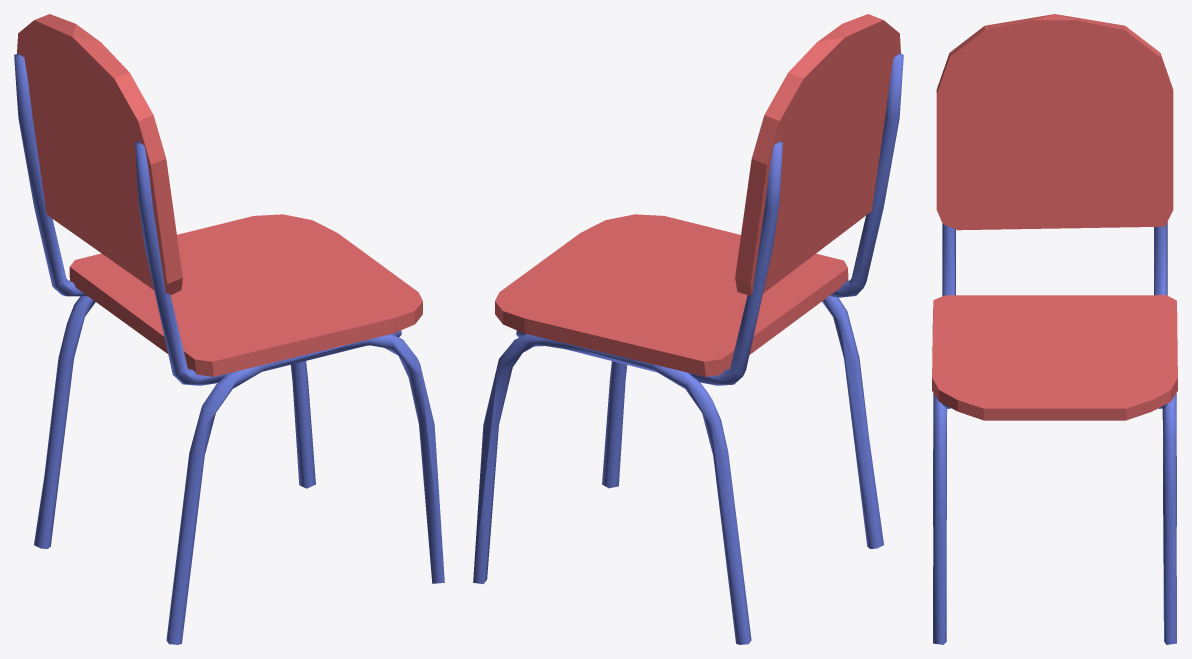
Rendered from стул .fbx.
The picture shows the model from 3 angles, left to right: view 1: azimuth 30°, elevation 25°; view 2: azimuth 150°, elevation 25°; view 3: azimuth 270°, elevation 25°; orthographic projection. The views are drawn at different scales.
Visible parts, largest first — view 1: КриваяБезье.003; view 2: КриваяБезье.003; view 3: КриваяБезье.003.
Boxes of the visible parts, x1,y1,x2,y2 form: КриваяБезье.003: [14, 14, 444, 644]; КриваяБезье.003: [473, 14, 903, 644]; КриваяБезье.003: [932, 14, 1177, 644].
Size of the model in its own units: 1.82 by 3.23 by 1.44.
